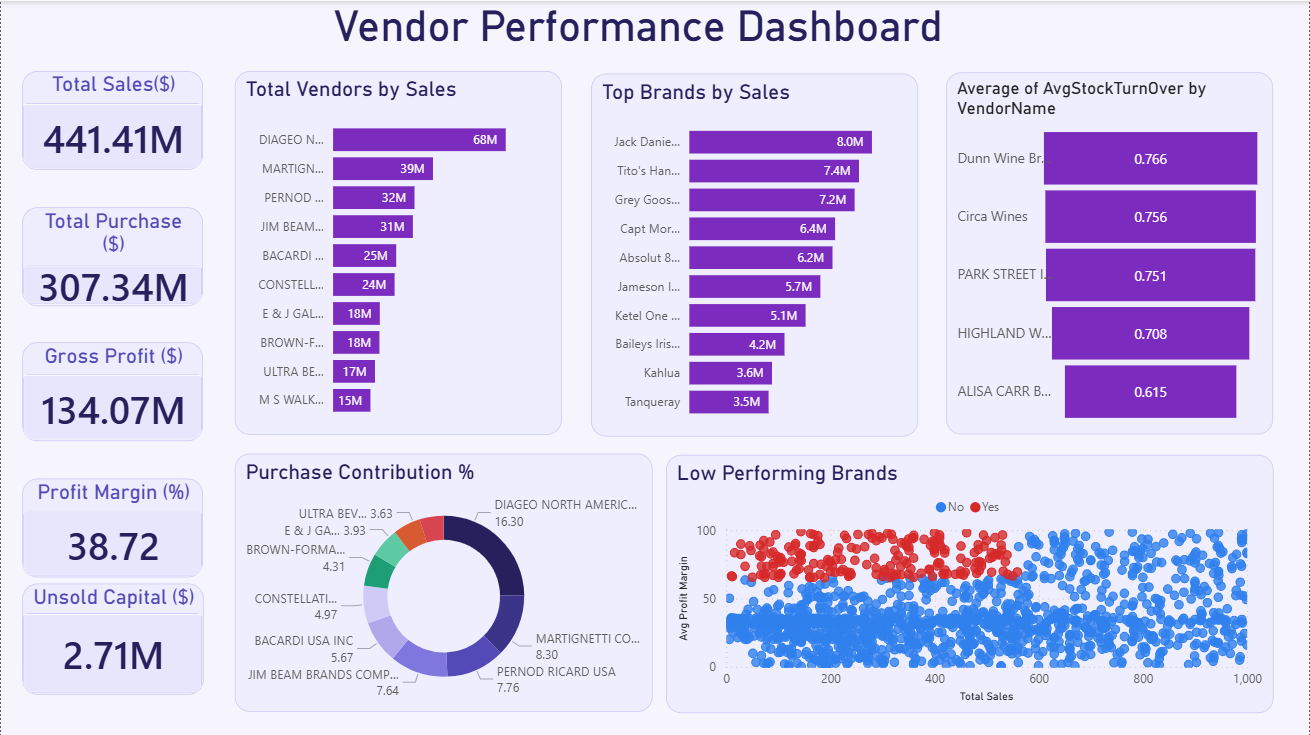

What the dashboard file says about the page in this screenshot:
{"tool":"powerbi","page":{"name":"Page 1","canvas":[1280,720],"ordinal":0},"visuals":[{"type":"textbox","title":"Vendor Performance Dashboard","box":[179.8,0,886.6,56.3],"z":0},{"type":"cardVisual","title":"Total  Sales($)","fields":{"Data":["Sum(vendor_sales_summary.TotalSalesDollars)"]},"box":[20.8,68.5,177,97],"z":1000},{"type":"cardVisual","title":"Total Purchase ($)","fields":{"Data":["Sum(vendor_sales_summary.TotalPurchaseDollars)"]},"box":[20.8,201.8,177,97],"z":2000},{"type":"cardVisual","title":"Gross Profit ($)","fields":{"Data":["Sum(vendor_sales_summary.GrossProfit)"]},"box":[20.8,334.2,177,97],"z":3000},{"type":"cardVisual","title":"Profit Margin (%)","fields":{"Data":["Avg(vendor_sales_summary.ProfitMargin)"]},"box":[20.8,466.7,177,97],"z":4000},{"type":"cardVisual","title":"Unsold Capital ($)","fields":{"Data":["Sum(vendor_sales_summary.Unsold Capital)"]},"box":[20.8,587,177.3,108.8],"z":5000},{"type":"donutChart","title":"Purchase Contribution %","fields":{"Y":["PurchaseContribution.PurchaseContribution%"],"Category":["PurchaseContribution.VendorName"],"Series":["PurchaseContribution.VendorName"]},"box":[228.7,442.7,408.4,253.1],"z":6000},{"type":"barChart","title":"Total Vendors by Sales","fields":{"Category":["vendor_sales_summary.VendorName"],"Y":["Sum(vendor_sales_summary.TotalSalesDollars)"]},"box":[228.7,68.5,320,355.8],"z":7000},{"type":"barChart","title":"Top Brands by Sales","fields":{"Category":["vendor_sales_summary.Description"],"Y":["Sum(vendor_sales_summary.TotalSalesDollars)"]},"box":[576.6,70.3,320,355],"z":8000},{"type":"funnel","fields":{"Category":["LowTurnover.VendorName"],"Y":["Avg(LowTurnover.AvgStockTurnOver)"]},"box":[924.5,69.7,320.4,354.6],"z":9000},{"type":"scatterChart","title":"Low Performing Brands","fields":{"Category":["BrandPerformance.Description"],"X":["Sum(BrandPerformance.TotalSales)"],"Y":["Avg(BrandPerformance.AvgProfitMargin)"],"Series":["BrandPerformance.TargetBrand"]},"box":[650.5,443.9,594.3,253],"z":10000}]}

Visuals, with their boxes in screenshot pixels (x1, y1, x2, y2), scaled from the page's 1280x720 canvas onto the 1310x735 screenshot:
"Vendor Performance Dashboard" textbox: (184,0,1091,57)
"Total  Sales($)" cardVisual: (21,70,202,169)
"Total Purchase ($)" cardVisual: (21,206,202,305)
"Gross Profit ($)" cardVisual: (21,341,202,440)
"Profit Margin (%)" cardVisual: (21,476,202,575)
"Unsold Capital ($)" cardVisual: (21,599,203,710)
"Purchase Contribution %" donutChart: (234,452,652,710)
"Total Vendors by Sales" barChart: (234,70,562,433)
"Top Brands by Sales" barChart: (590,72,918,434)
funnel - LowTurnover.VendorName x Avg(LowTurnover.AvgStockTurnOver): (946,71,1274,433)
"Low Performing Brands" scatterChart: (666,453,1274,711)
